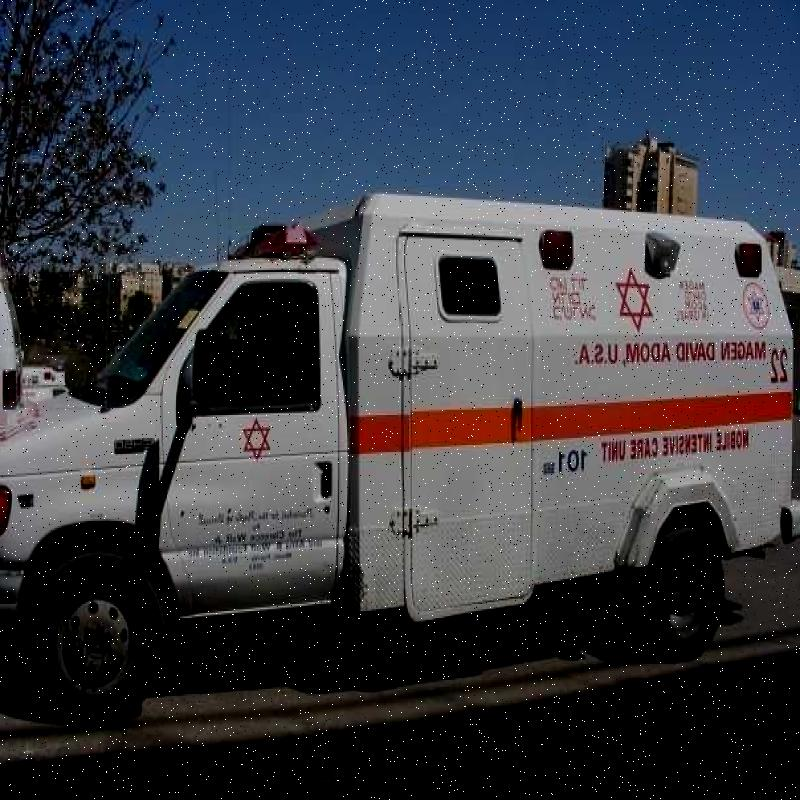AmbulanceSiren: (208, 191, 358, 285)
